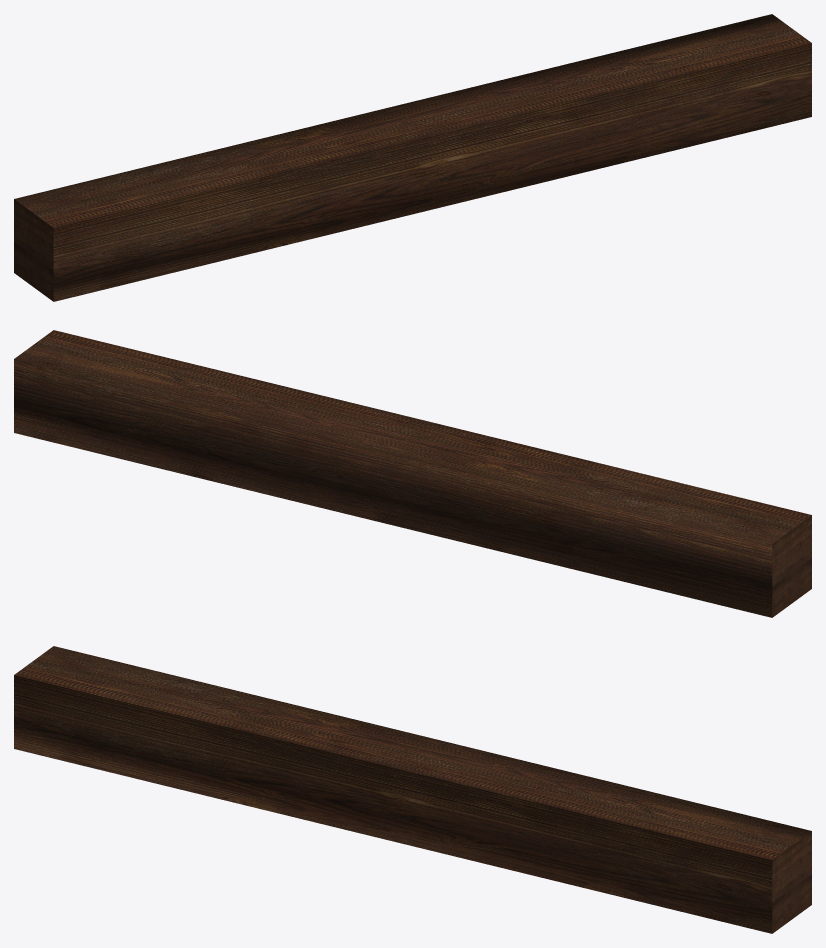
The model's file is SH3D_Sparta_Beam.obj.
3 views of the same model, one above another, from view 1: azimuth 30°, elevation 25°; view 2: azimuth 150°, elevation 25°; view 3: azimuth 330°, elevation 25° (orthographic).
Visible parts, largest first — view 1: SH3D_Beam0; view 2: SH3D_Beam0; view 3: SH3D_Beam0.
Part boxes in pixels (bbox=[...]): SH3D_Beam0: bbox=[14, 14, 811, 301]; SH3D_Beam0: bbox=[14, 330, 811, 617]; SH3D_Beam0: bbox=[14, 646, 811, 933].
Bounding box in the file's own units: 4 × 0.3724 × 0.3629.
